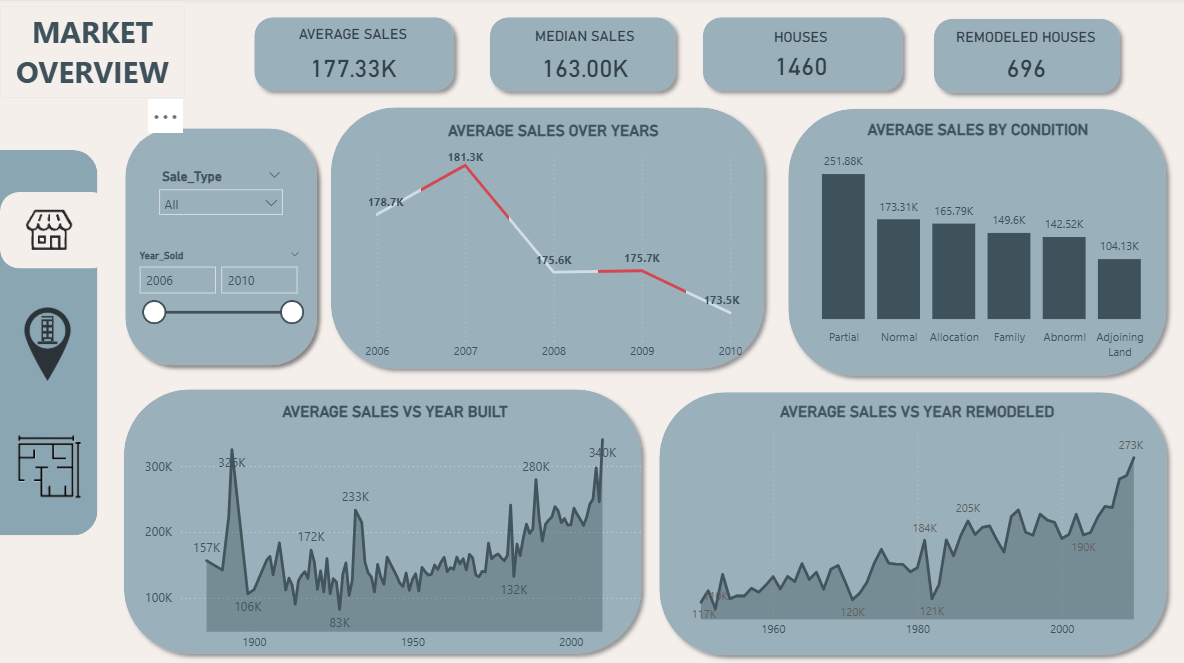

The dashboard page shown, as its layout file describes it:
{"tool":"powerbi","page":{"name":"MARKET","canvas":[1280,720],"ordinal":0},"visuals":[{"type":"shape","box":[125.5,132,224.9,273.8],"z":0},{"type":"textbox","box":[0,9.7,199.2,98.8],"z":1000},{"type":"shape","box":[348.8,110.8,485.7,299.9],"z":2000},{"type":"lineChart","title":"AVERAGE SALES OVER YEARS","fields":{"Y":["Measure.Average Sales Price"],"Category":["Real_State_Data.Year_Sold"]},"box":[387.9,133.7,417.3,265.7],"z":3000},{"type":"shape","box":[125,415,576.7,303.3],"z":4000},{"type":"shape","box":[842,111.7,425.9,306],"z":5000},{"type":"columnChart","title":"AVERAGE SALES BY CONDITION","fields":{"Category":["Real_State_Data.Sale_Condition"],"Y":["Measure.Average Sales Price"]},"box":[850.1,132.8,411.3,265.6],"z":6000},{"type":"shape","box":[265.1,12.6,233.5,97],"z":7000},{"type":"shape","box":[748.9,12.6,233.5,97],"z":8000},{"type":"shape","box":[999.7,14.7,218.4,97.8],"z":9000},{"type":"card","title":"AVERAGE SALES","fields":{"Values":["Measure.Average Sales Price"]},"box":[293.4,31,176,71.7],"z":10000},{"type":"areaChart","title":"AVERAGE SALES VS YEAR BUILT","fields":{"Category":["Real_State_Data.Year_Built"],"Y":["Measure.Average Sales Price"]},"box":[150,436.7,551.7,276.7],"z":11000},{"type":"shape","box":[702.5,417.3,565.6,301.5],"z":12000},{"type":"areaChart","title":"AVERAGE SALES VS YEAR REMODELED","fields":{"Category":["Real_State_Data.Year_Remodeled"],"Y":["Measure.Average Sales Price"]},"box":[738.3,436.7,503.3,263.3],"z":13000},{"type":"slicer","fields":{"Values":["Real_State_Data.Sale_Type"]},"box":[161.7,180,153.3,71.7],"z":14000},{"type":"slicer","fields":{"Values":["Real_State_Data.Year_Sold"]},"box":[138.3,266.7,198.3,103.3],"z":15000},{"type":"shape","box":[0,165.2,105.2,416.1],"z":16000},{"type":"shape","box":[0,210.5,119.8,82.6],"z":17000},{"type":"image","box":[0,195.9,105.2,110.1],"z":20000},{"type":"card","title":"REMODELED HOUSES","fields":{"Values":["Measure.Remodeled Houses"]},"box":[1020.3,34.2,174.4,65.2],"z":21000},{"type":"card","title":"HOUSES","fields":{"Values":["Measure.Houses"]},"box":[777.5,34.2,174.4,60.3],"z":22000},{"type":"shape","box":[519.4,12.5,218.4,97.8],"z":23000},{"type":"card","title":"MEDIAN SALES","fields":{"Values":["Measure.Median Sale price"]},"box":[544.4,32.6,174.4,68.5],"z":24000},{"type":"image","box":[1.6,335.2,98.8,79.3],"z":24001},{"type":"image","box":[3.2,459.9,100.4,93.9],"z":24002}]}

Visuals, with their boxes in screenshot pixels (x1, y1, x2, y2), scaled from the page's 1280x720 canvas onto the 1184x663 screenshot:
shape: select_region(116, 122, 324, 374)
textbox: select_region(0, 9, 184, 100)
shape: select_region(323, 102, 772, 378)
"AVERAGE SALES OVER YEARS" lineChart: select_region(359, 123, 745, 368)
shape: select_region(116, 382, 649, 661)
shape: select_region(779, 103, 1173, 385)
"AVERAGE SALES BY CONDITION" columnChart: select_region(786, 122, 1167, 367)
shape: select_region(245, 12, 461, 101)
shape: select_region(693, 12, 909, 101)
shape: select_region(925, 14, 1127, 104)
"AVERAGE SALES" card: select_region(271, 29, 434, 95)
"AVERAGE SALES VS YEAR BUILT" areaChart: select_region(139, 402, 649, 657)
shape: select_region(650, 384, 1173, 662)
"AVERAGE SALES VS YEAR REMODELED" areaChart: select_region(683, 402, 1148, 645)
slicer - Real_State_Data.Sale_Type: select_region(150, 166, 291, 232)
slicer - Real_State_Data.Year_Sold: select_region(128, 246, 311, 341)
shape: select_region(0, 152, 97, 535)
shape: select_region(0, 194, 111, 270)
image: select_region(0, 180, 97, 282)
"REMODELED HOUSES" card: select_region(944, 31, 1105, 92)
"HOUSES" card: select_region(719, 31, 881, 87)
shape: select_region(480, 12, 682, 102)
"MEDIAN SALES" card: select_region(504, 30, 665, 93)
image: select_region(1, 309, 93, 382)
image: select_region(3, 423, 96, 510)
